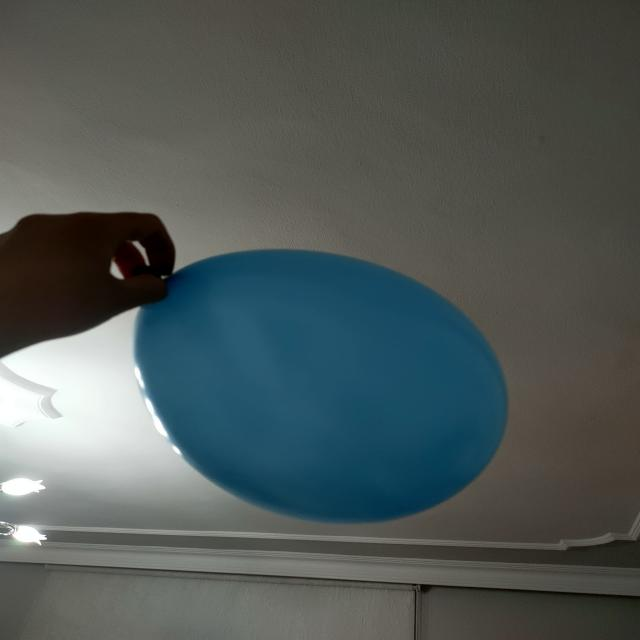blue: (134, 249, 509, 526)
